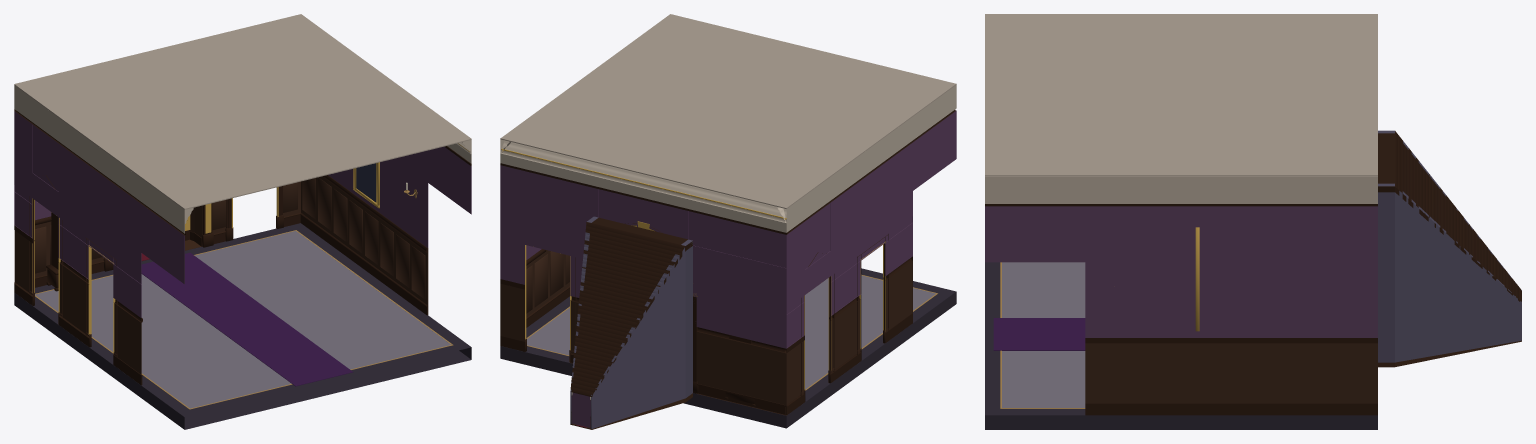
The model's file is endless.glb.
3 renders of one model, left to right at view 1: azimuth 30°, elevation 25°; view 2: azimuth 150°, elevation 25°; view 3: azimuth 270°, elevation 25°, orthographic. The views are drawn at different scales.
Visible parts, largest first — view 1: End_main, End_back; view 2: End_main, End_back; view 3: End_main.
Boxes of the visible parts, x1=… form: End_main: x1=14, y1=14, x2=471, y2=429; End_back: x1=14, y1=109, x2=300, y2=287; End_main: x1=500, y1=14, x2=956, y2=429; End_back: x1=500, y1=139, x2=787, y2=415; End_main: x1=985, y1=14, x2=1521, y2=429.
Bounding box in the file's own units: 8.94 × 6.58 × 12.57.
